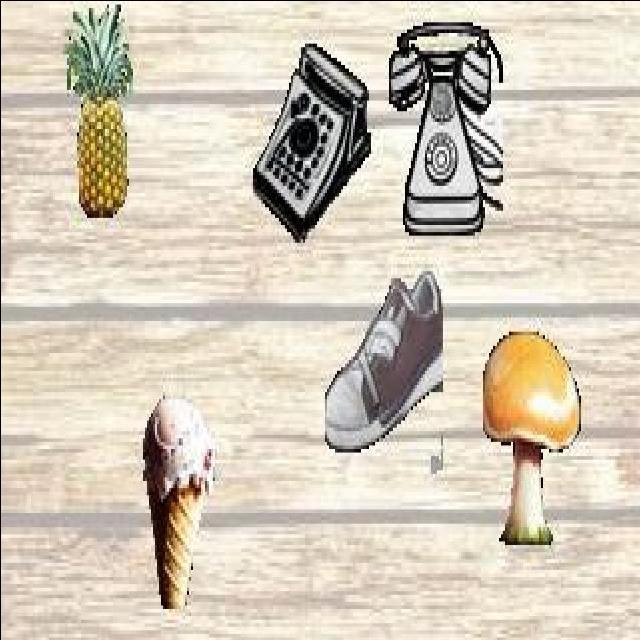Other Objects: (388, 20, 502, 235), (252, 39, 372, 240), (323, 267, 442, 452), (482, 330, 581, 544)
